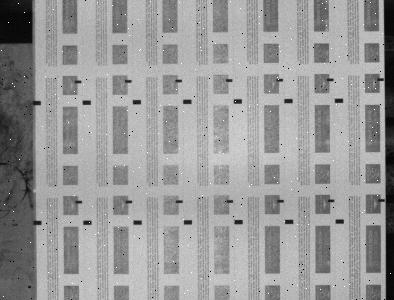backgroundclutter: (33, 189, 37, 192), (28, 285, 31, 288)
qblock: (83, 220, 92, 225), (285, 219, 294, 224), (33, 220, 42, 225), (183, 99, 192, 104), (335, 98, 344, 103), (235, 219, 243, 224), (83, 100, 91, 105), (285, 98, 293, 103), (33, 100, 41, 105), (133, 220, 142, 224), (184, 220, 193, 224), (336, 219, 345, 223), (133, 100, 142, 104), (234, 99, 242, 103)
smallqblock: (227, 199, 234, 203), (277, 78, 284, 82), (75, 200, 82, 204), (125, 79, 132, 83), (278, 199, 284, 203), (378, 78, 385, 81), (379, 199, 386, 202), (327, 78, 334, 81), (176, 200, 183, 203), (126, 200, 133, 203), (75, 80, 82, 83), (226, 79, 233, 82), (328, 199, 335, 202), (176, 79, 182, 82)
